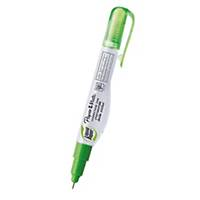Correction_fluid: (67, 3, 138, 192)
